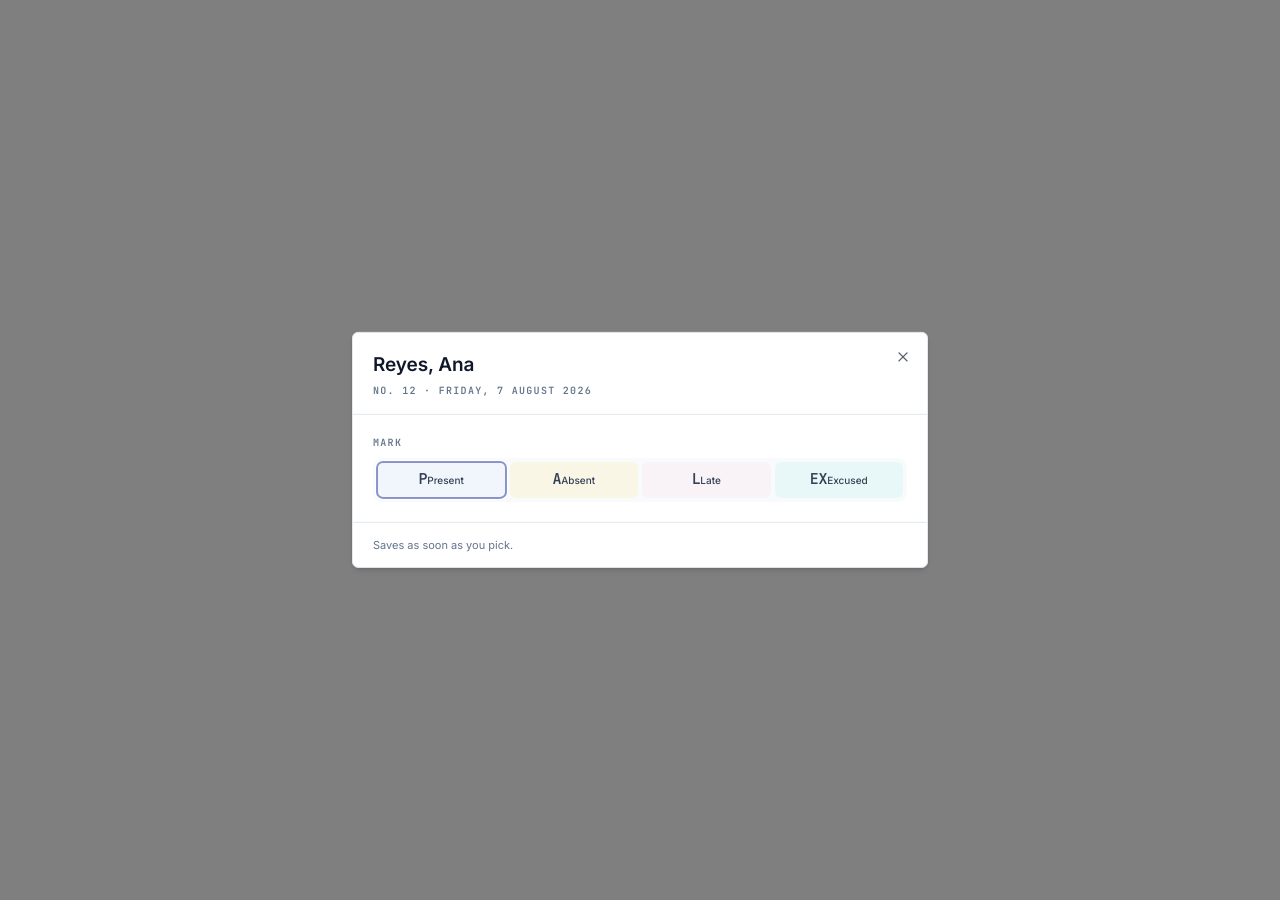
Test: the excused mark needs a reason › reveals the reasons when Excused is clicked
Expected: the text "MC / Excuse leave" is not shown
Step 1. Click the radio button labelled "Excused" → (839, 480), box [774,462,903,498]
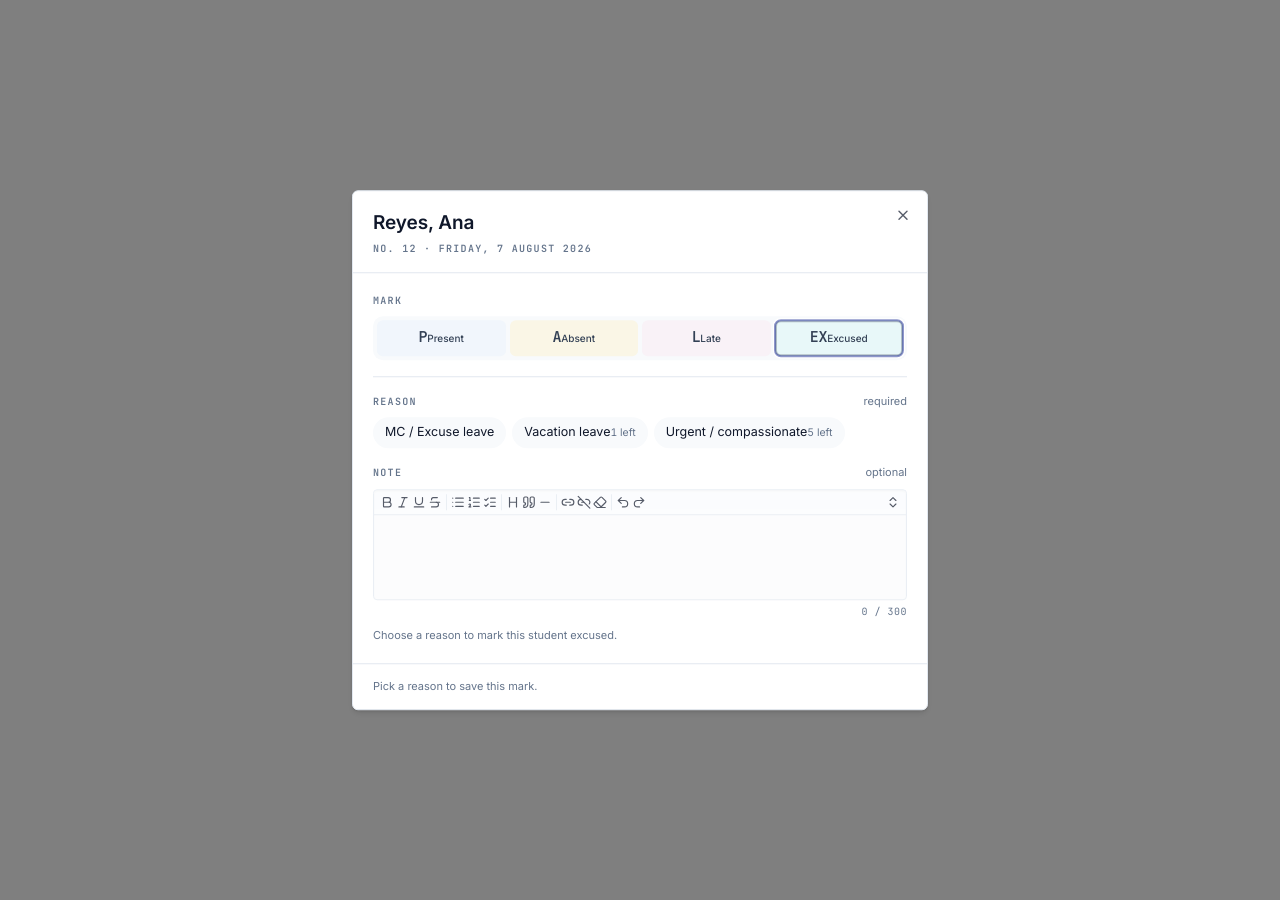
Expected: the text "MC / Excuse leave" is shown, [385,424,494,440]
